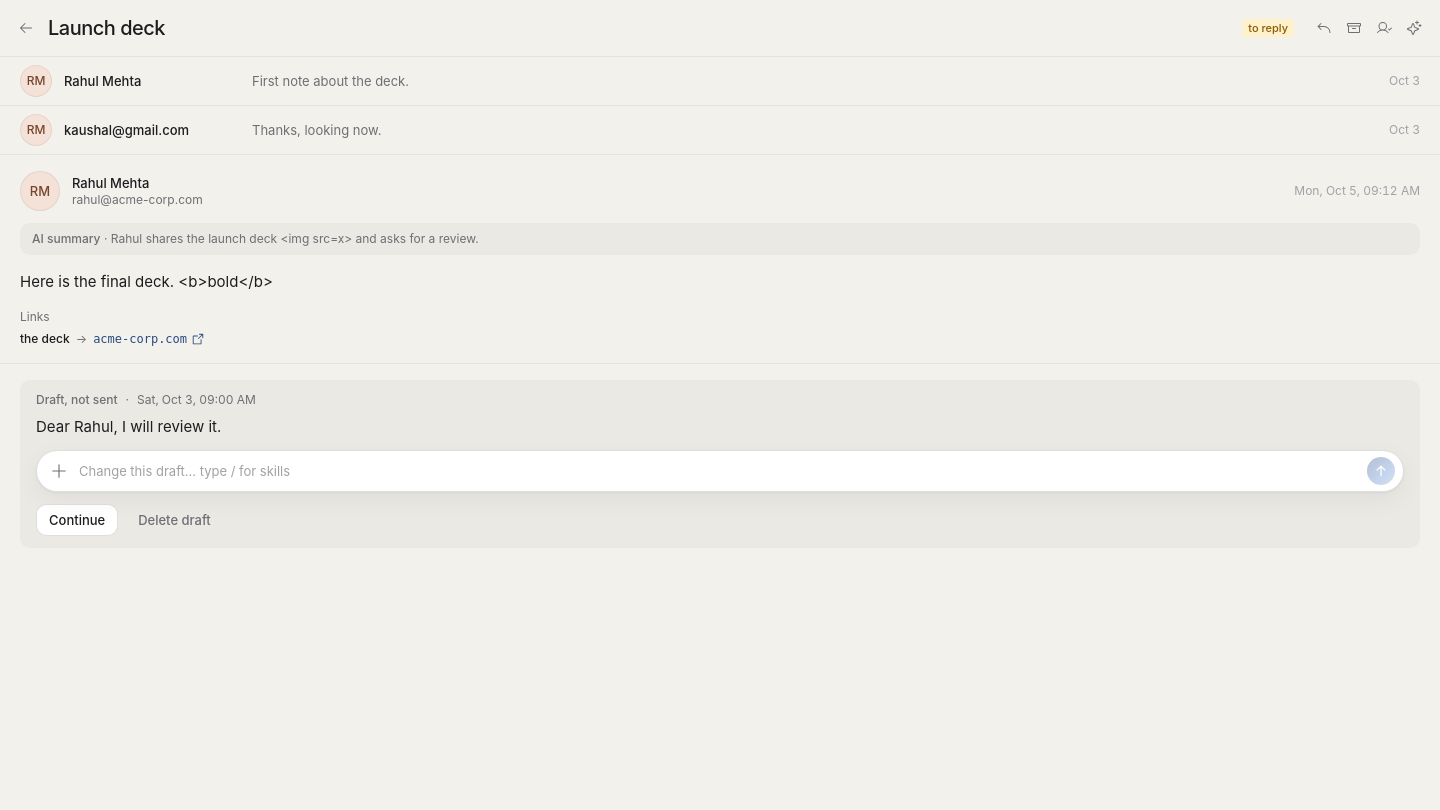
Test: ReadingView › shows a Gmail draft as "Draft, not sent" with Continue and Delete draft, never as a reply
Check: the text "Draft, not sent" is shown, box [36,392,118,408]
Click the button "Continue". click: click(77, 520)
box: [36,504,118,536]
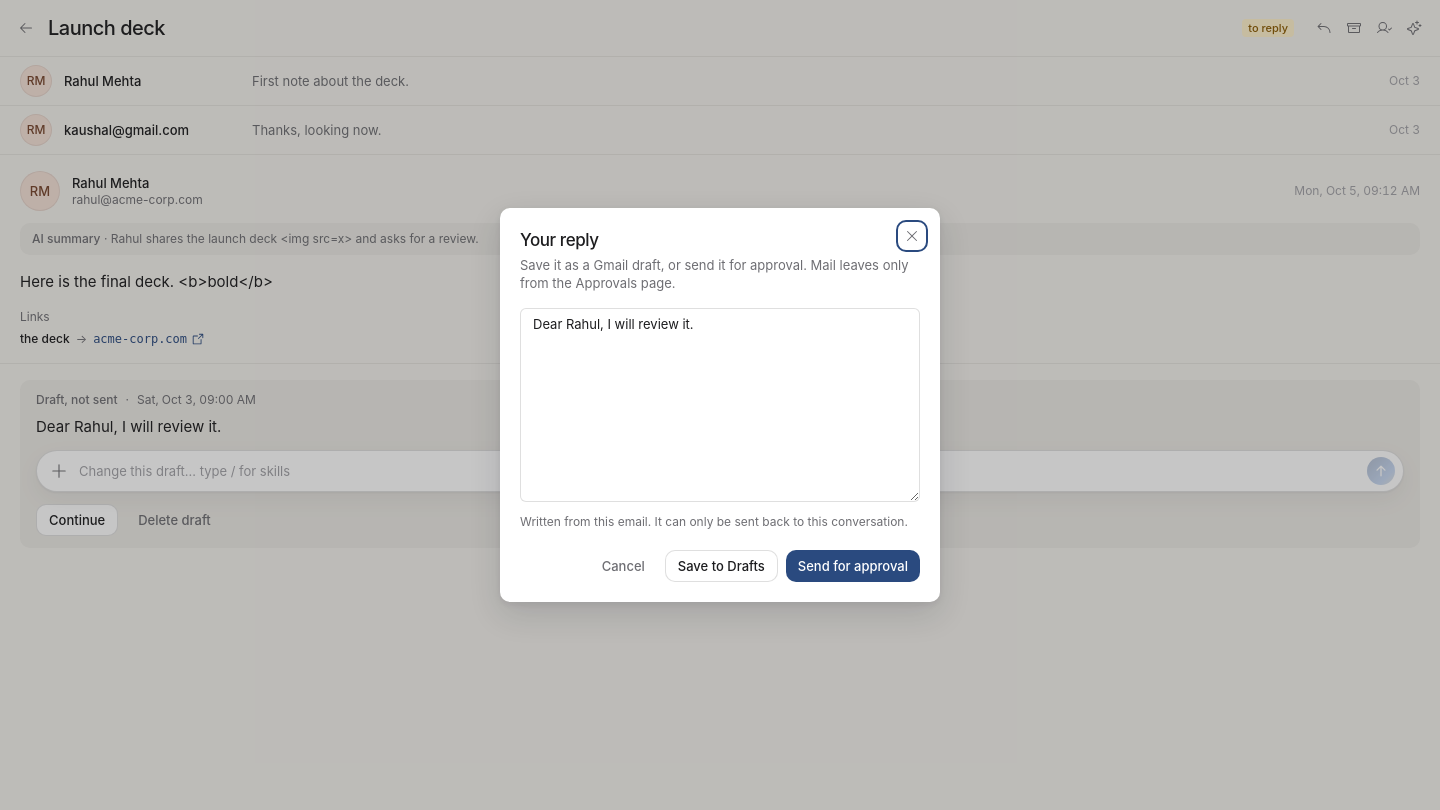
Check: the text box named "Reply text" holds "Dear Rahul, I will review it.", box [520,308,920,502]
Click the button "Cancel". click: click(623, 566)
box: [590,550,657,582]
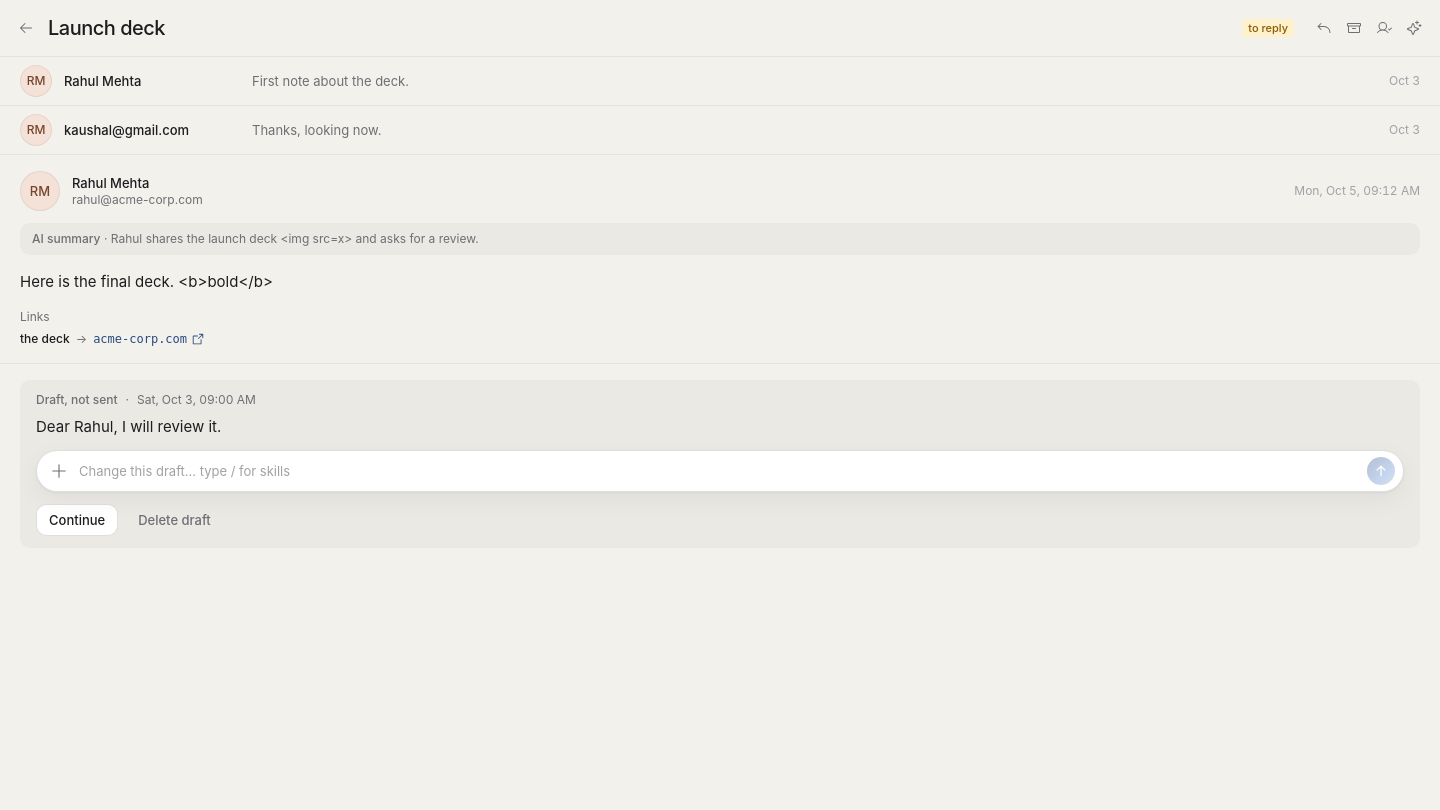
Check: the dialog is gone
Click the button "Delete draft". click: click(174, 520)
box: [126,504,223,536]
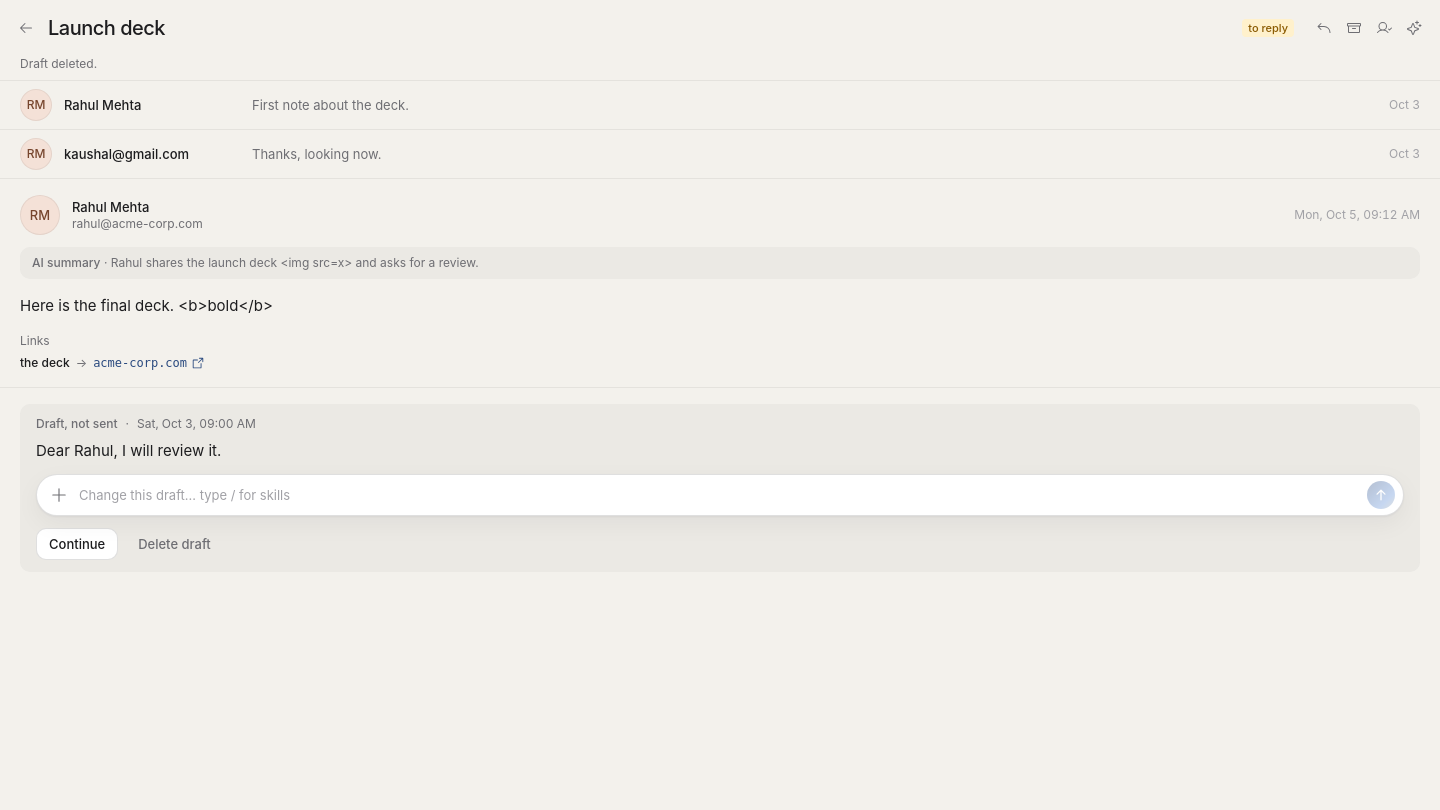
Check: the message reads "Draft deleted.", box [20,56,97,71]
